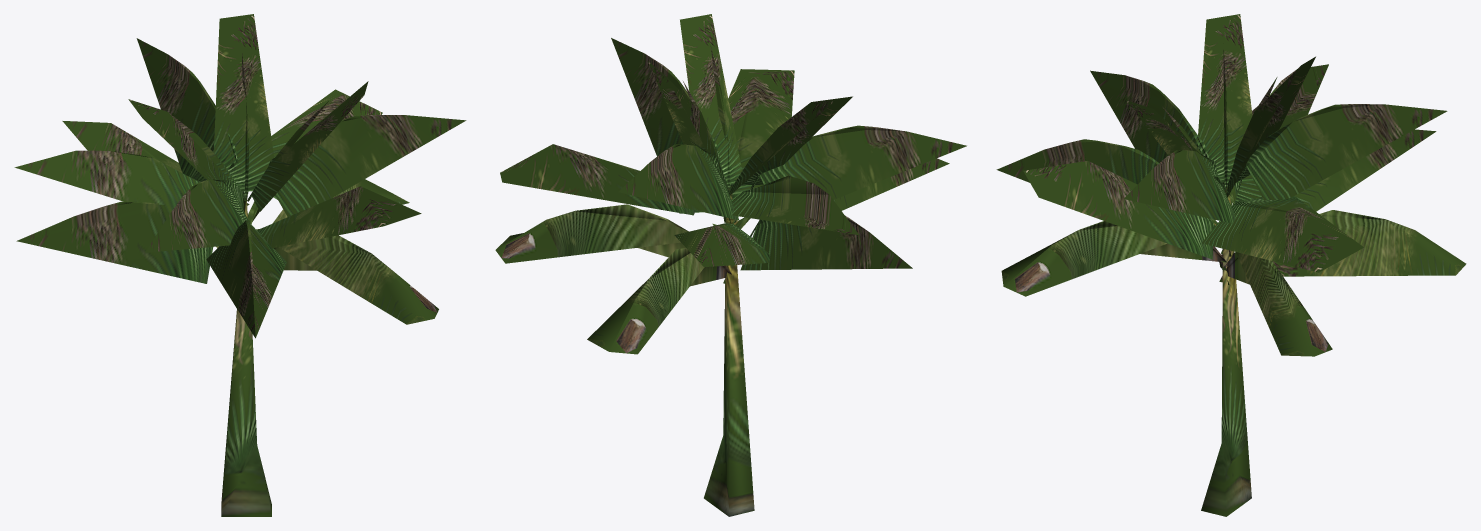
File: banana_tree_lod1.fbx
3 views of the same model, side by side, from view 1: azimuth 30°, elevation 25°; view 2: azimuth 150°, elevation 25°; view 3: azimuth 270°, elevation 25° (orthographic).
Parts seen in each view (by area): view 1: polySurface44; view 2: polySurface44; view 3: polySurface44.
Part boxes in pixels (x1,y1,x2,y2): polySurface44: (14,14,466,516); polySurface44: (495,14,966,516); polySurface44: (996,14,1466,516).
Size of the model in its own units: 29.3 by 32.31 by 29.88.
